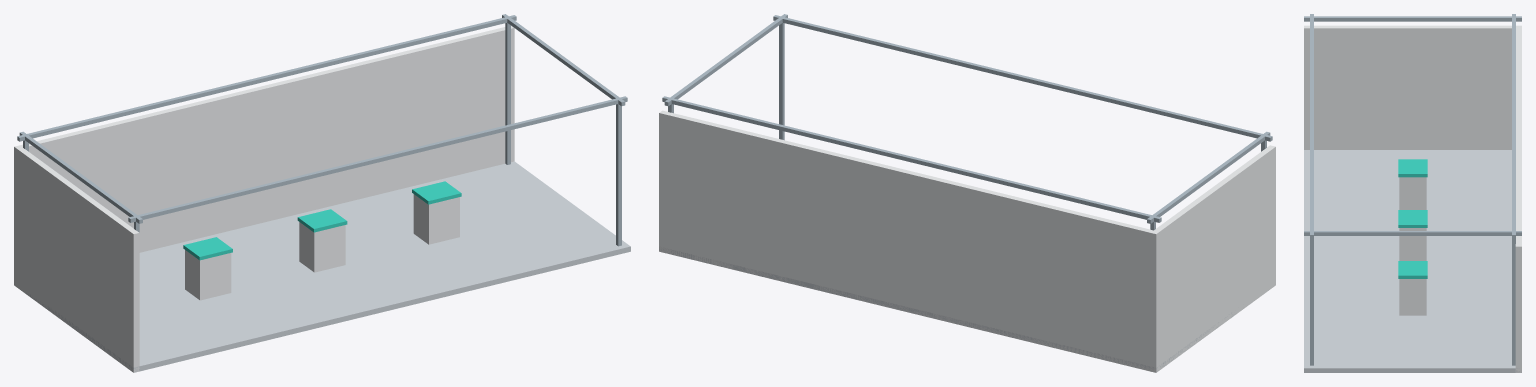
The picture shows the model from 3 angles, left to right: view 1: azimuth 30°, elevation 25°; view 2: azimuth 150°, elevation 25°; view 3: azimuth 270°, elevation 25°; orthographic projection. The views are drawn at different scales.
Visible parts, largest first — view 1: Exhibition Booth Concept; view 2: Exhibition Booth Concept; view 3: Exhibition Booth Concept.
Boxes of the visible parts, x1=… form: Exhibition Booth Concept: x1=14, y1=14, x2=630, y2=372; Exhibition Booth Concept: x1=659, y1=14, x2=1275, y2=372; Exhibition Booth Concept: x1=1304, y1=14, x2=1521, y2=372.
Bounding box in the file's own units: 12 × 3.49 × 5.
